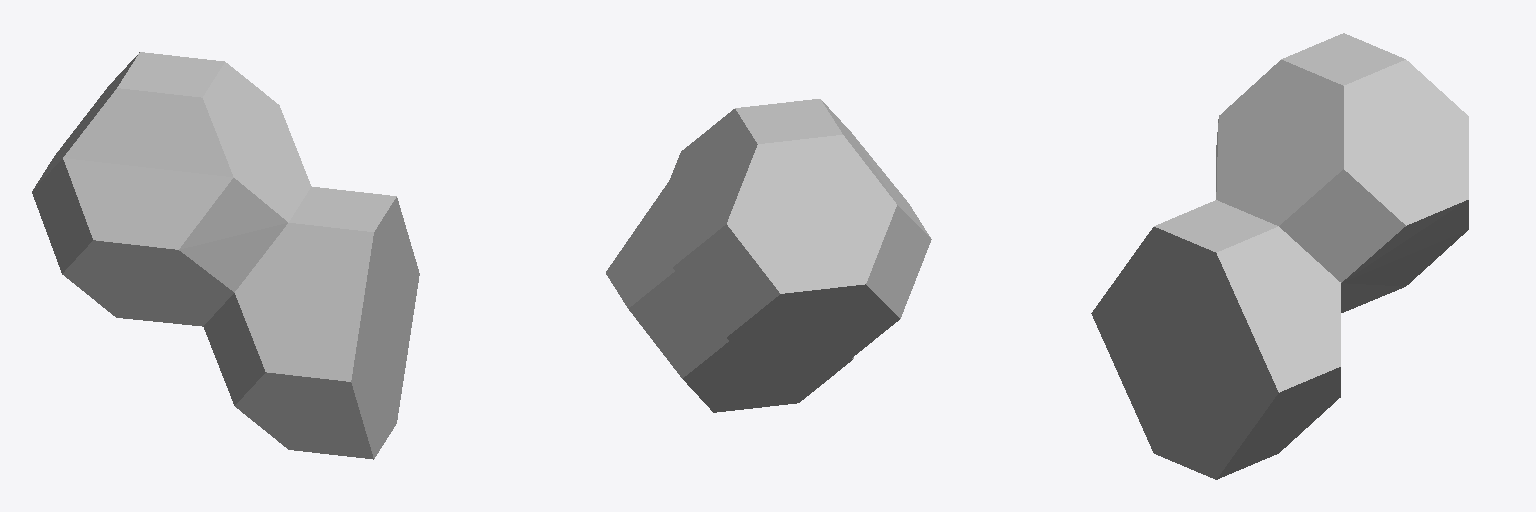
The model's file is fcc.test4.obj.
3 renders of one model, left to right at view 1: azimuth 30°, elevation 25°; view 2: azimuth 150°, elevation 25°; view 3: azimuth 270°, elevation 25°, orthographic.
Visible parts, largest first — view 1: Obj2_Mesh2, Obj3_Mesh3; view 2: Obj2_Mesh2, Obj3_Mesh3; view 3: Obj3_Mesh3, Obj2_Mesh2.
Boxes of the visible parts, x1=… form: Obj2_Mesh2: x1=32, y1=52, x2=311, y2=326; Obj3_Mesh3: x1=203, y1=187, x2=419, y2=459; Obj2_Mesh2: x1=650, y1=99, x2=931, y2=370; Obj3_Mesh3: x1=606, y1=180, x2=853, y2=412; Obj3_Mesh3: x1=1091, y1=200, x2=1340, y2=479; Obj2_Mesh2: x1=1216, y1=33, x2=1468, y2=312.
Bounding box in the file's own units: 1.83 × 1.82 × 1.83.